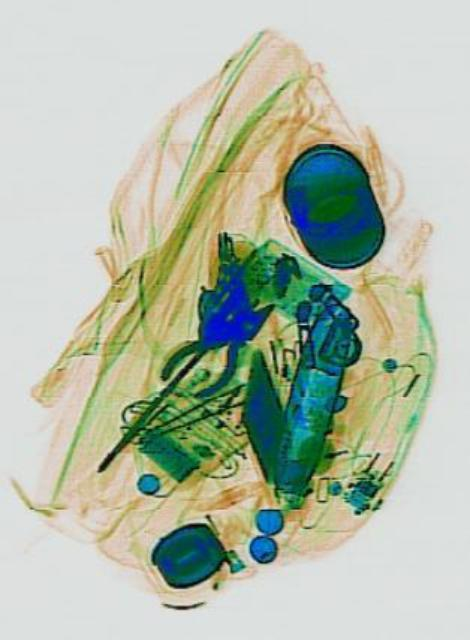Pliers: (152, 278, 286, 420)
